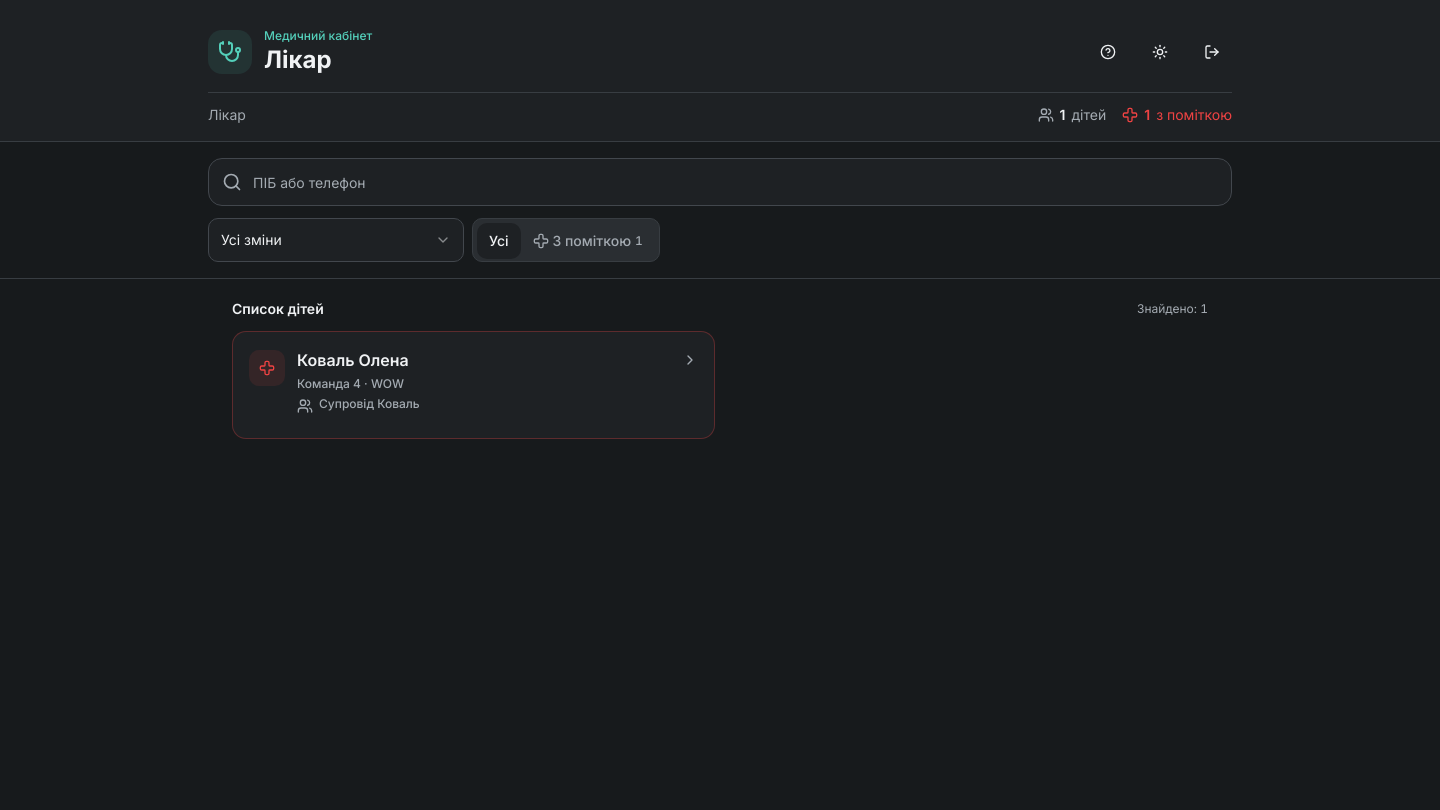
it: doctor workflow › saves a medical mark without a presence update
The image size is (1440, 810).
Step 1. Click the button "Коваль Олена Команда 4 · WOW Супровід Коваль" → (267, 368), box [232, 331, 715, 439]
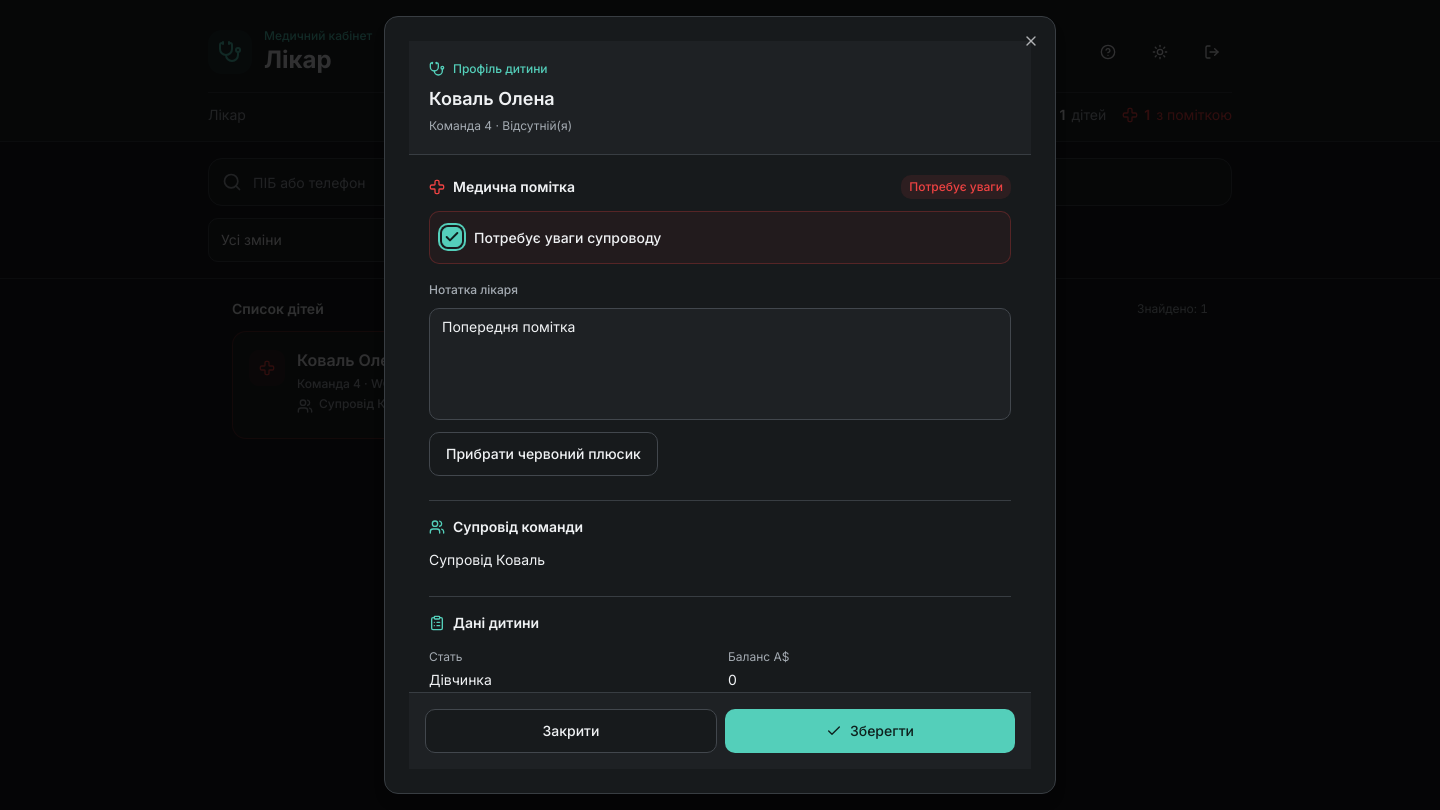
Step 2. Replace the text in the text box labelled "Нотатка лікаря" with "Потрібен огляд" → (720, 364), box [429, 308, 1011, 420]
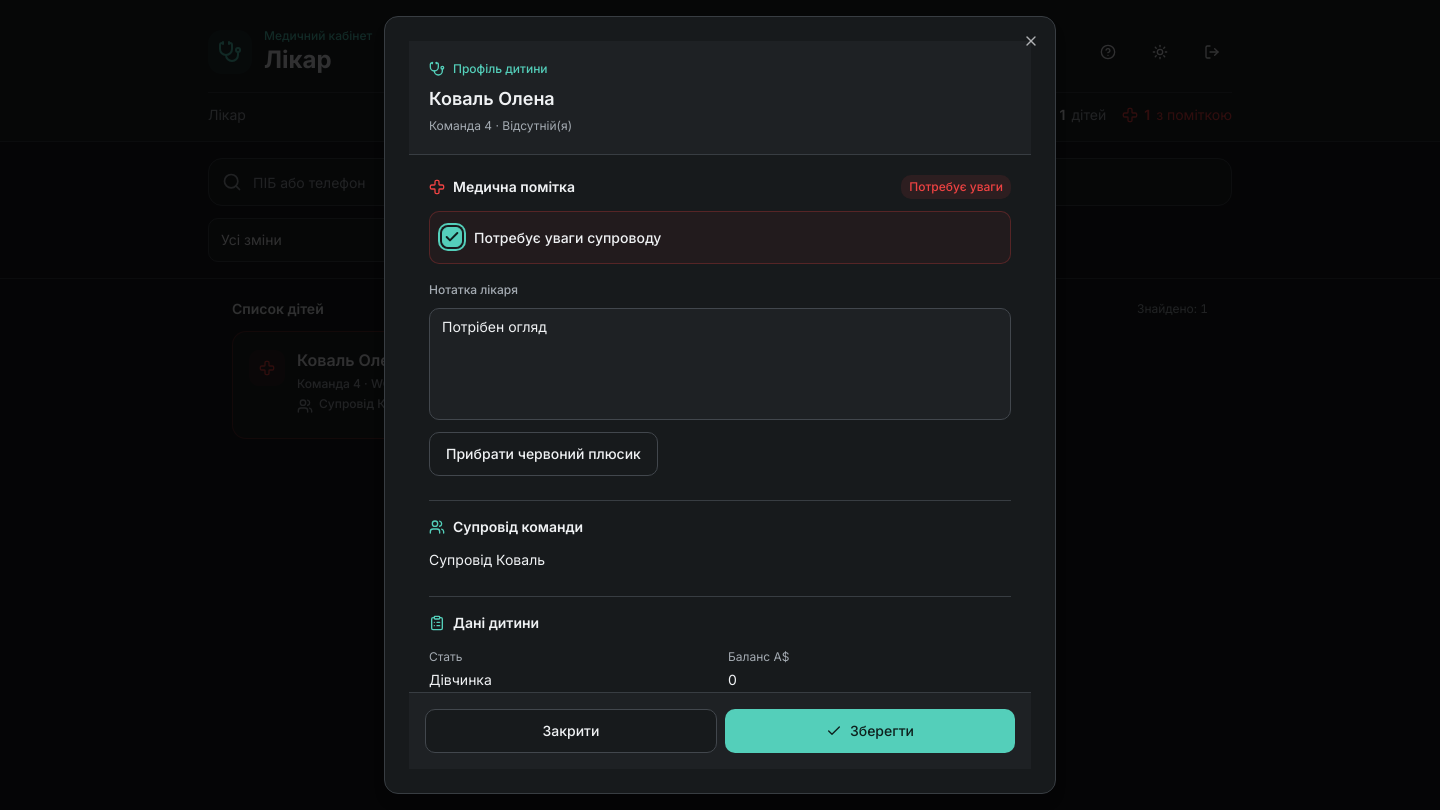
Step 3. Click the button "Зберегти" → (870, 731), box [725, 709, 1015, 753]
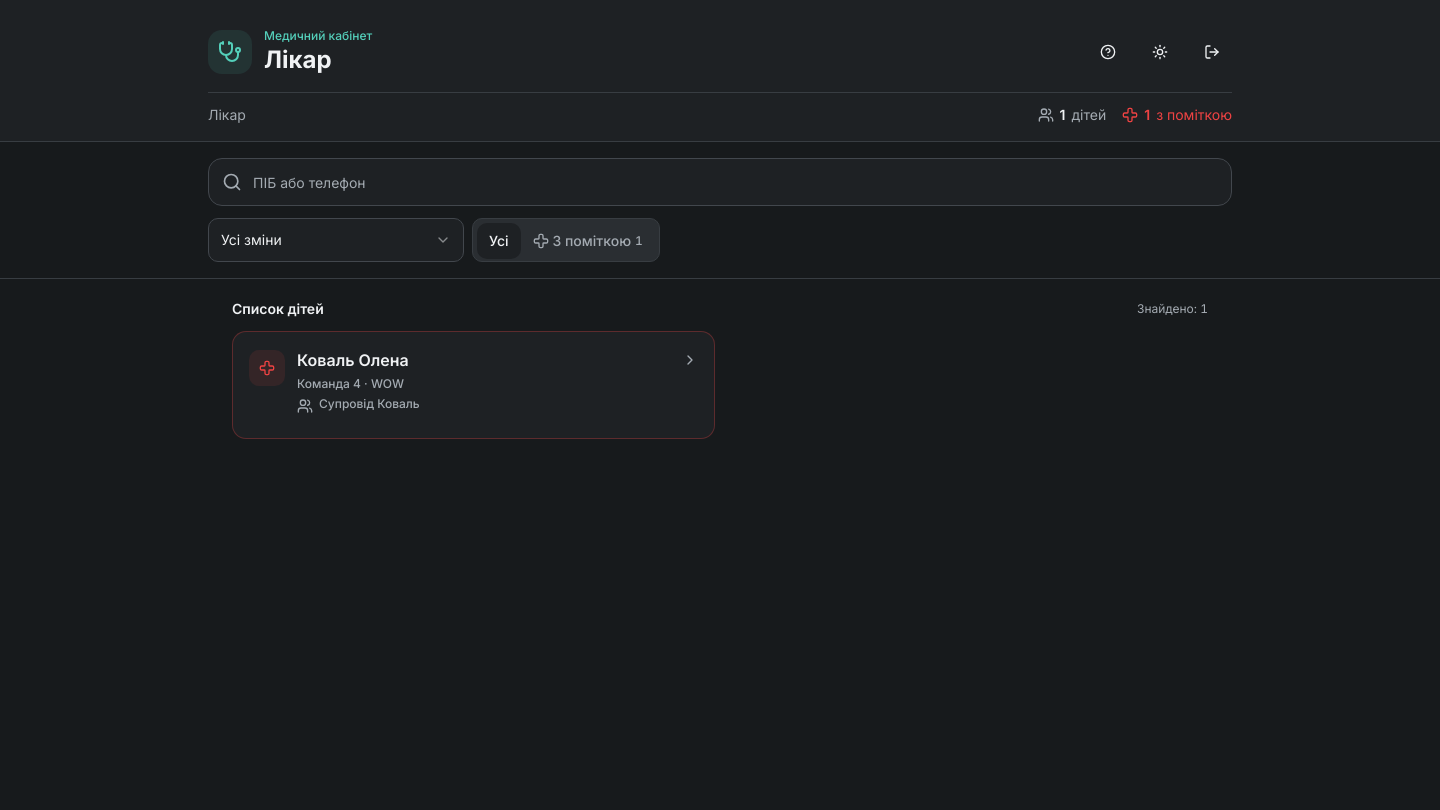
Now the dialog is gone
